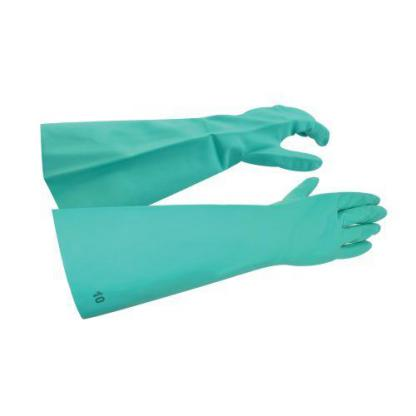with_gloves: (57, 177, 396, 333), (24, 75, 332, 210)
